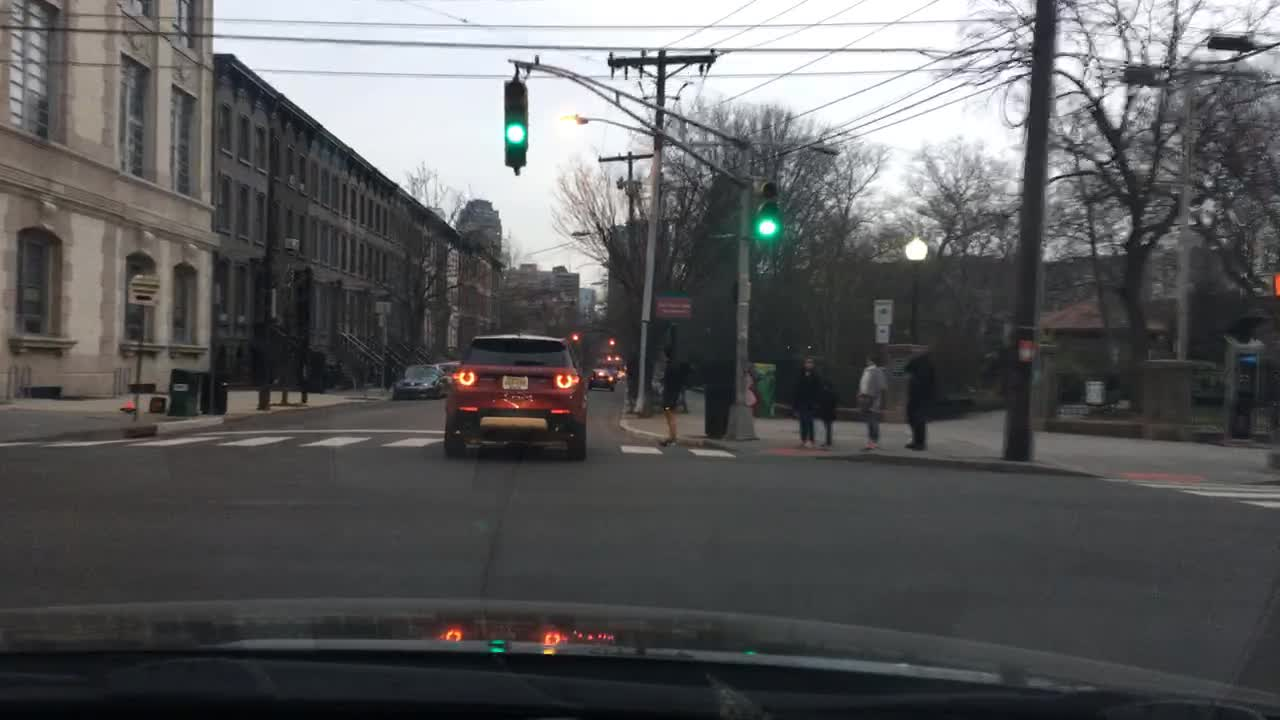car: (442, 322, 590, 464), (393, 366, 447, 401), (585, 366, 614, 394), (606, 354, 627, 379), (442, 361, 459, 388)
person: (904, 340, 933, 450), (859, 354, 887, 450), (796, 350, 820, 447), (660, 345, 678, 445), (818, 364, 833, 455)
traffic light: (503, 79, 526, 175), (759, 180, 773, 242), (1254, 269, 1279, 300), (570, 330, 579, 347), (611, 334, 614, 354)
traffic sign: (123, 275, 162, 302), (654, 295, 692, 320), (874, 300, 891, 323), (874, 327, 889, 345)
